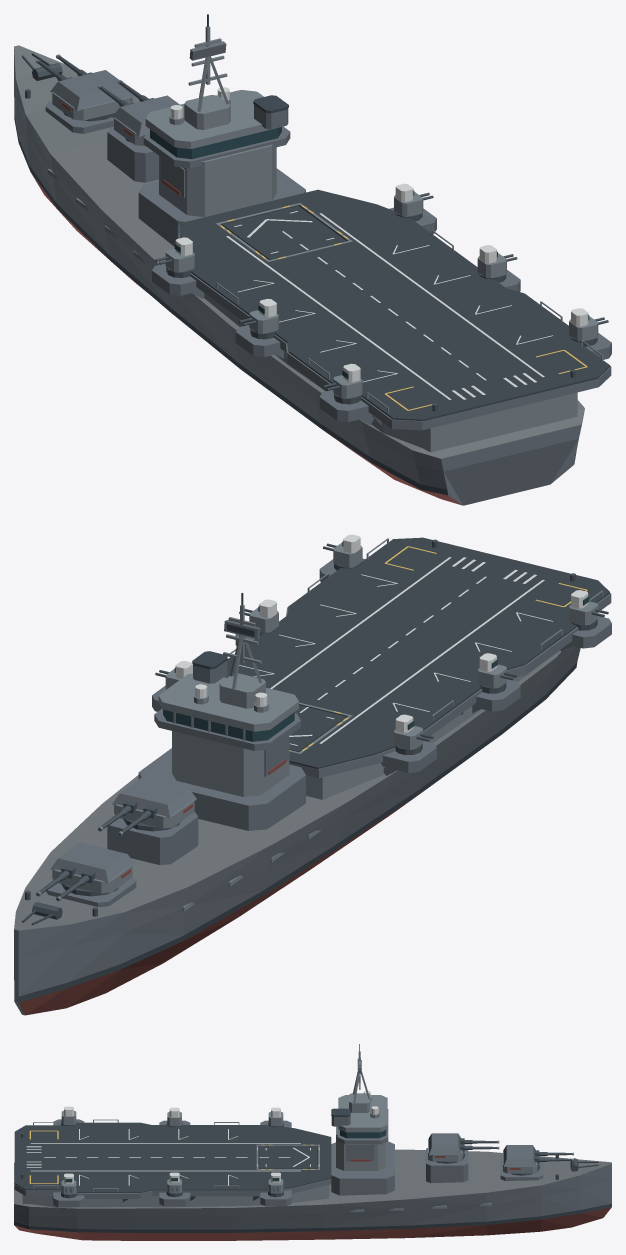
The model's file is EnemyHybridBoss.fbx.
3 renders of one model, top to bottom at view 1: azimuth 30°, elevation 25°; view 2: azimuth 150°, elevation 25°; view 3: azimuth 270°, elevation 25°, orthographic. The views are drawn at different scales.
Parts seen in each view (by area): view 1: FlightDeck_Mesh, Hull_Mesh, BridgeAssembly_Mesh, DroneElevatorPivot_Mesh, MainGun_01_Mesh, MainGun_02_Mesh, AA_Port_01_Mesh, AA_Port_02_Mesh, AA_Port_03_Mesh, AA_Starboard_01_Mesh, AA_Starboard_02_Mesh, AA_Starboard_03_Mesh (+1 smaller); view 2: FlightDeck_Mesh, Hull_Mesh, BridgeAssembly_Mesh, MainGun_01_Mesh, MainGun_02_Mesh, DroneElevatorPivot_Mesh, AA_Port_02_Mesh, AA_Port_01_Mesh, AA_Port_03_Mesh, AA_Starboard_03_Mesh, AA_Starboard_02_Mesh, MainGun_Elevation_01_Mesh (+1 smaller); view 3: Hull_Mesh, FlightDeck_Mesh, BridgeAssembly_Mesh, DroneElevatorPivot_Mesh, MainGun_02_Mesh, MainGun_01_Mesh, DroneElevatorShaft_Mesh, MainGun_Elevation_02_Mesh, MainGun_Elevation_01_Mesh, AA_Starboard_03_Mesh, AA_Starboard_01_Mesh, AA_Starboard_02_Mesh.
Boxes of the visible parts, x1,y1,x2,y2 form: FlightDeck_Mesh: (152, 189, 611, 452); Hull_Mesh: (14, 45, 584, 505); BridgeAssembly_Mesh: (138, 14, 305, 246); DroneElevatorPivot_Mesh: (222, 206, 345, 259); MainGun_01_Mesh: (50, 70, 134, 120); MainGun_02_Mesh: (112, 95, 179, 146); AA_Port_01_Mesh: (165, 237, 194, 272); AA_Port_02_Mesh: (249, 298, 278, 333); AA_Port_03_Mesh: (333, 363, 362, 398); AA_Starboard_01_Mesh: (394, 183, 423, 216); AA_Starboard_02_Mesh: (477, 245, 506, 278); AA_Starboard_03_Mesh: (569, 308, 598, 341); FlightDeck_Mesh: (152, 537, 611, 799); Hull_Mesh: (14, 539, 580, 1015); BridgeAssembly_Mesh: (138, 593, 305, 830); MainGun_01_Mesh: (50, 842, 134, 893); MainGun_02_Mesh: (112, 777, 196, 828); DroneElevatorPivot_Mesh: (289, 705, 346, 751); AA_Port_02_Mesh: (477, 653, 506, 688); AA_Port_01_Mesh: (394, 714, 423, 749); AA_Port_03_Mesh: (569, 590, 598, 625); AA_Starboard_03_Mesh: (333, 534, 362, 567); AA_Starboard_02_Mesh: (249, 599, 278, 632); MainGun_Elevation_01_Mesh: (36, 865, 95, 901); Hull_Mesh: (14, 1132, 611, 1240); FlightDeck_Mesh: (14, 1119, 331, 1209); BridgeAssembly_Mesh: (331, 1044, 394, 1195); DroneElevatorPivot_Mesh: (259, 1146, 317, 1168); MainGun_02_Mesh: (428, 1133, 462, 1161); MainGun_01_Mesh: (503, 1145, 537, 1173); DroneElevatorShaft_Mesh: (256, 1144, 319, 1169); MainGun_Elevation_02_Mesh: (459, 1138, 499, 1151); MainGun_Elevation_01_Mesh: (534, 1150, 573, 1163); AA_Starboard_03_Mesh: (61, 1173, 76, 1194); AA_Starboard_01_Mesh: (268, 1172, 283, 1193); AA_Starboard_02_Mesh: (167, 1172, 181, 1193).
Size of the model in its own units: 524 by 512 by 1600.
